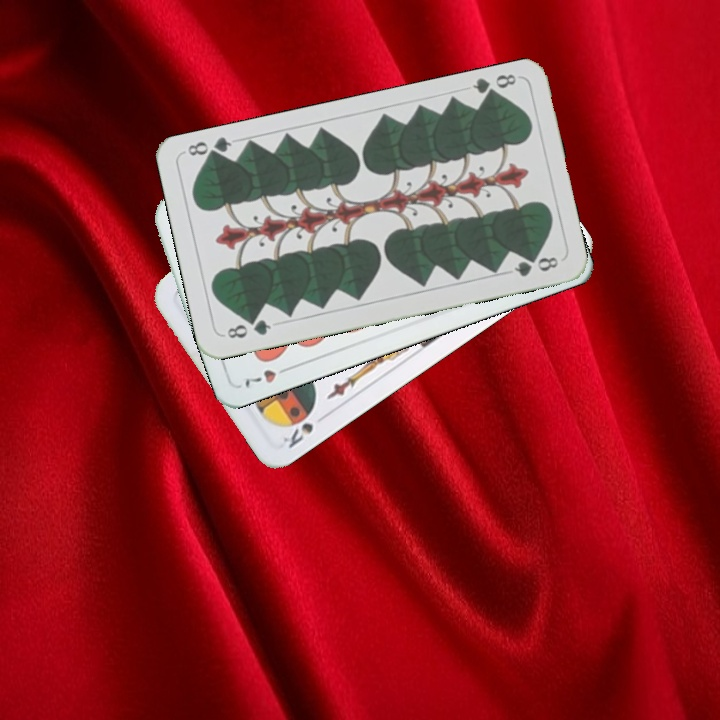G8: (468, 69, 519, 102), (223, 315, 274, 341)
H7: (238, 362, 295, 391)
SK: (278, 409, 330, 451)
